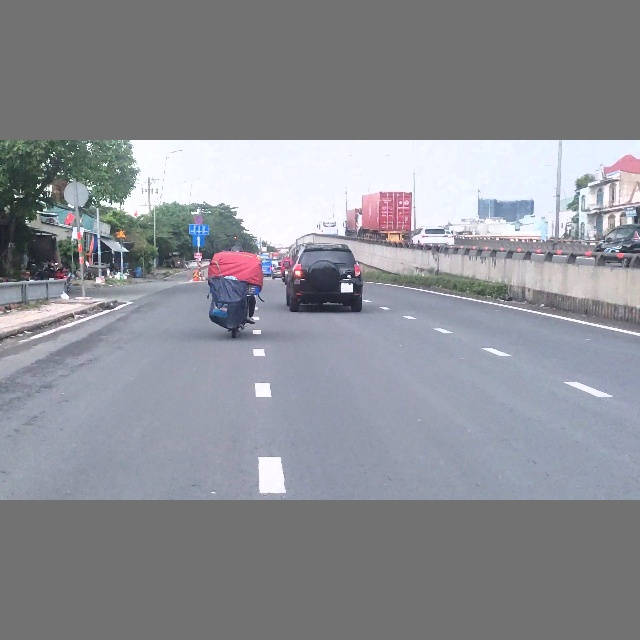I.407a: (192, 235, 205, 247)
P.130: (193, 216, 203, 224)
W.246a: (117, 229, 126, 238)
